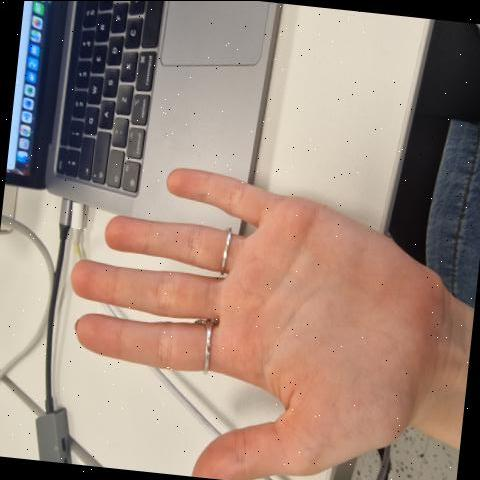Hands: (16, 133, 460, 467)
